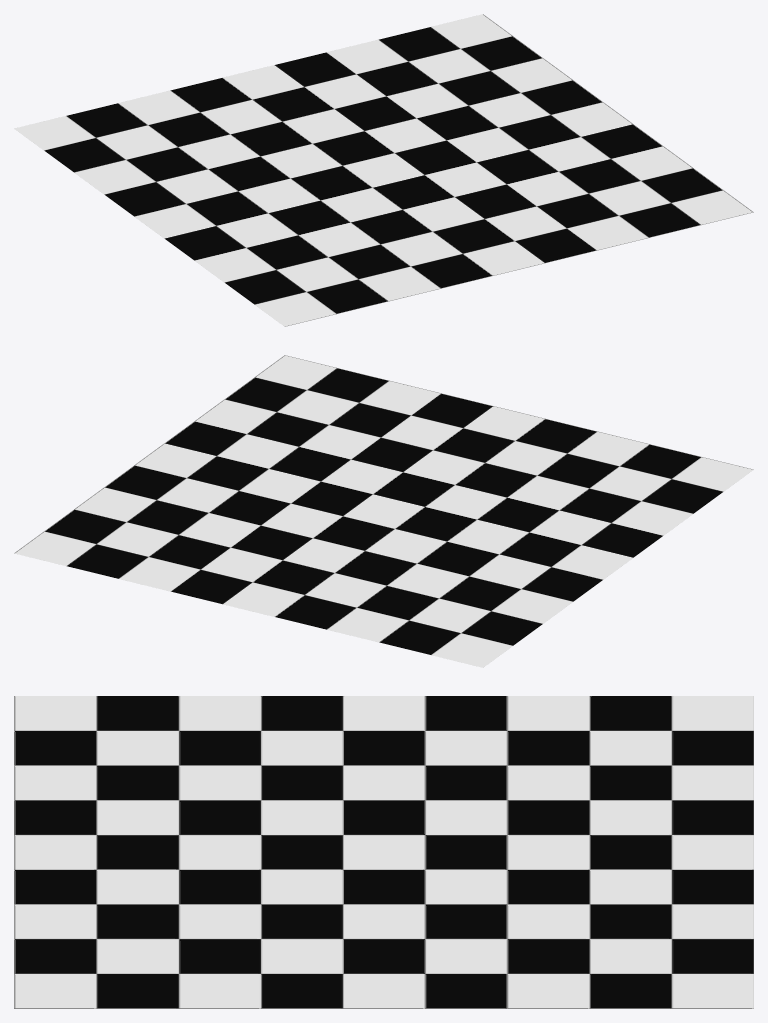
The model's file is checker_plane_subdivided.obj.
3 views of the same model, one above another, from view 1: azimuth 30°, elevation 25°; view 2: azimuth 150°, elevation 25°; view 3: azimuth 270°, elevation 25° (orthographic). The views are drawn at different scales.
Parts seen in each view (by area): view 1: Plane; view 2: Plane; view 3: Plane.
Boxes of the visible parts, x1,y1,x2,y2 form: Plane: [14, 14, 753, 326]; Plane: [14, 355, 753, 667]; Plane: [14, 696, 753, 1008].
Size of the model in its own units: 2 by 0 by 2.
1 material, 1 textured.
